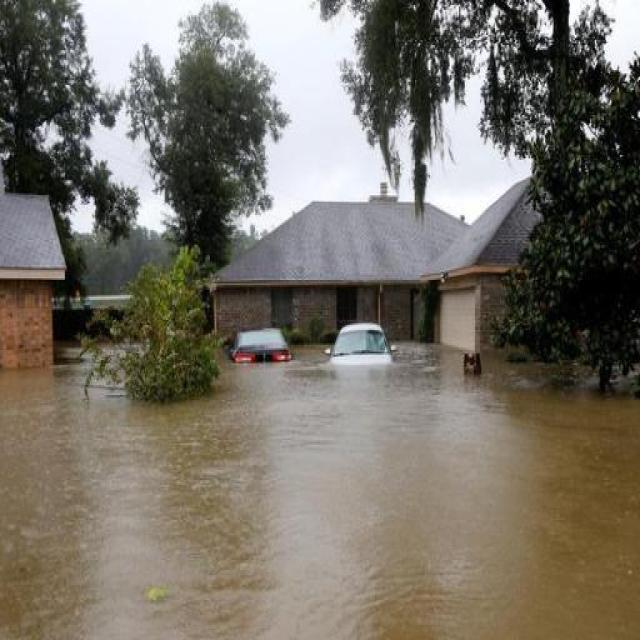water: (0, 343, 638, 638)
